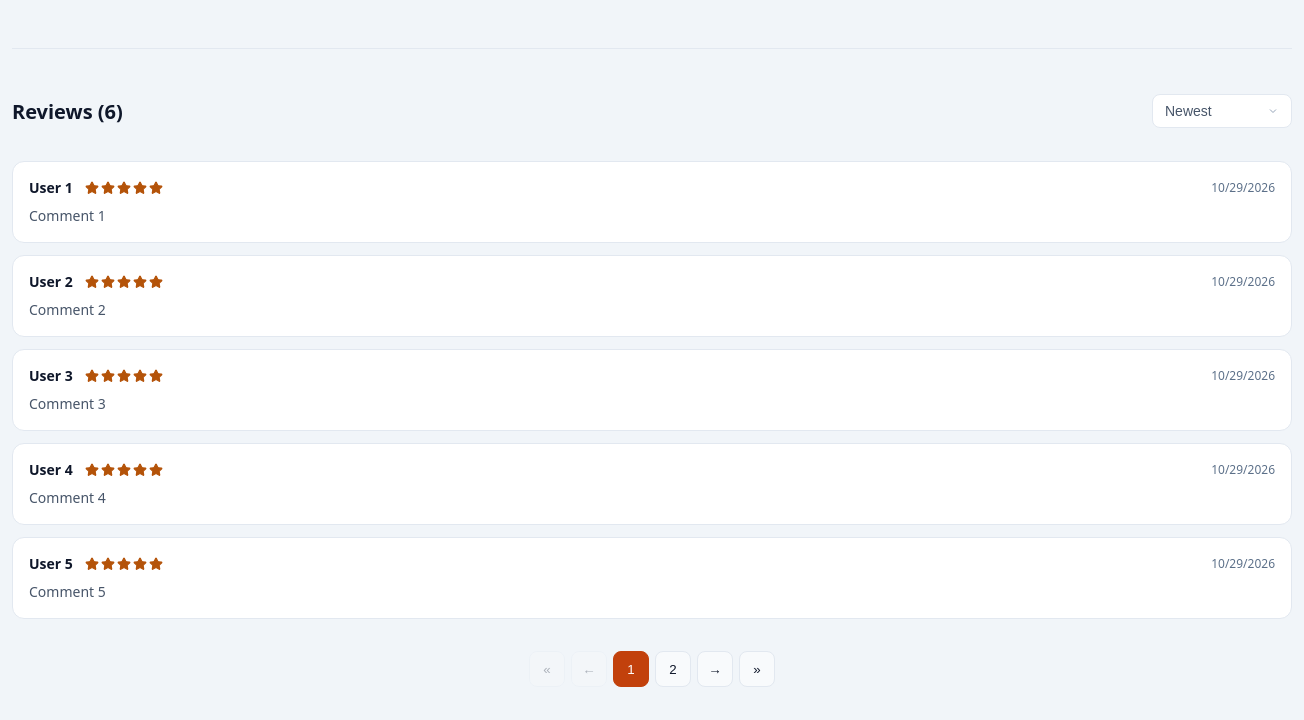
Test: ReviewSection › falls back to the last non-empty page when the requested page has emptied
Click the button "2" at coordinates (673, 669), box [655, 651, 691, 687]
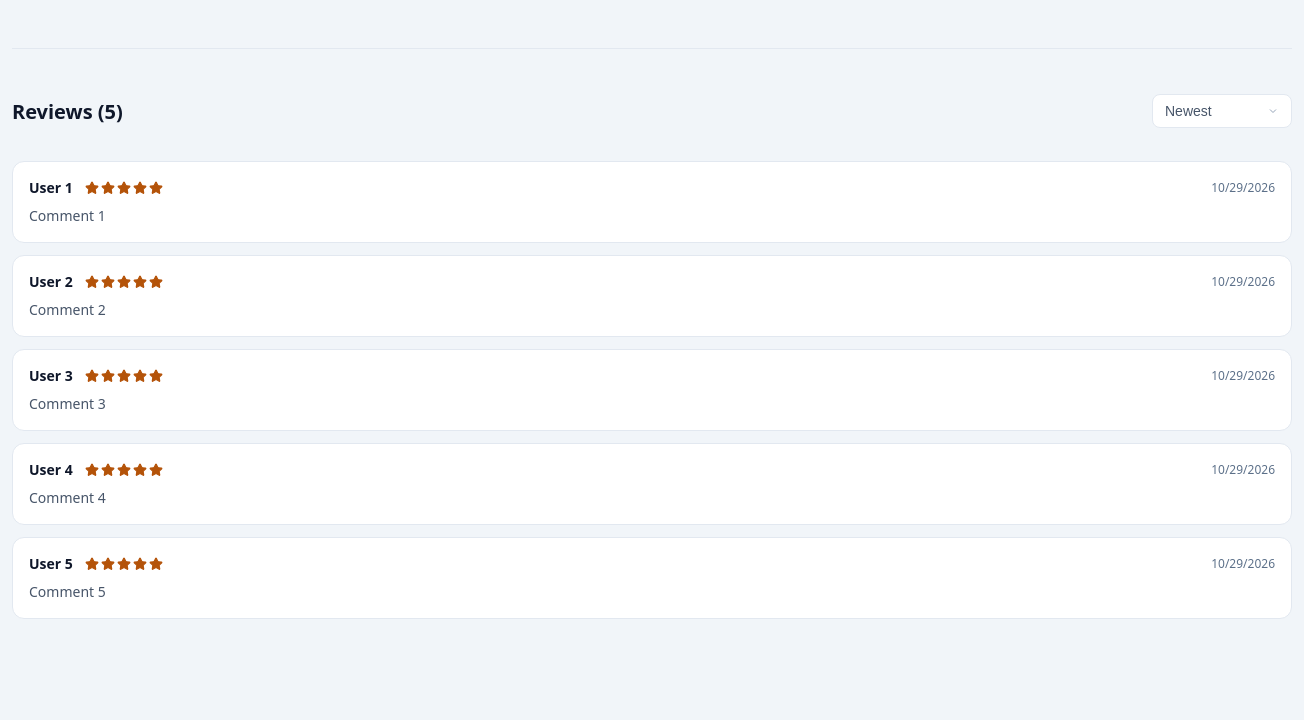
Check: the text "Comment 1" is shown, box [29, 206, 106, 225]
Check: the heading "Reviews (5)" is shown, box [12, 98, 123, 125]
